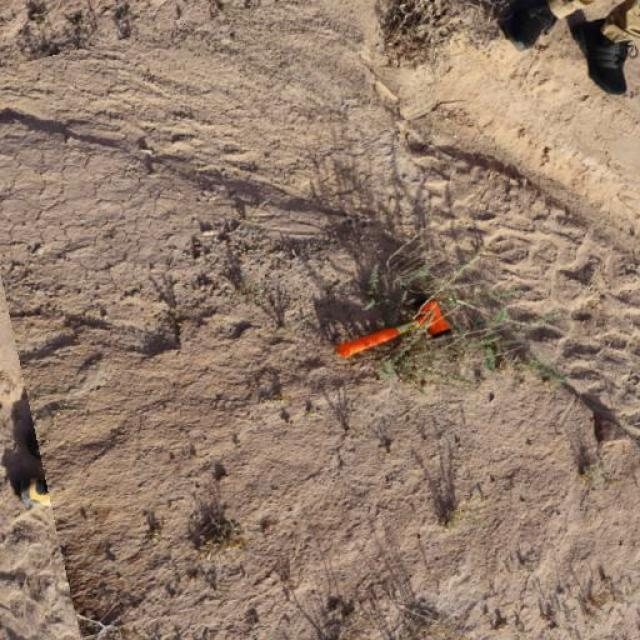mallet: (333, 296, 452, 360)
